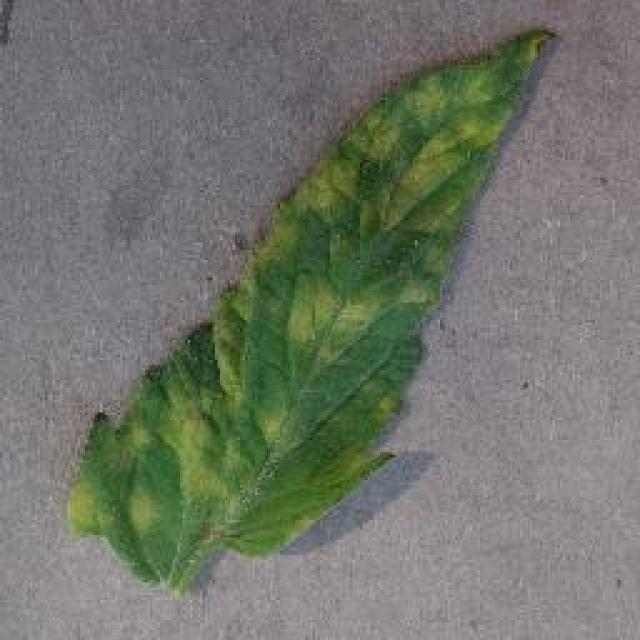Tomato mold leaf: (66, 26, 559, 594)
